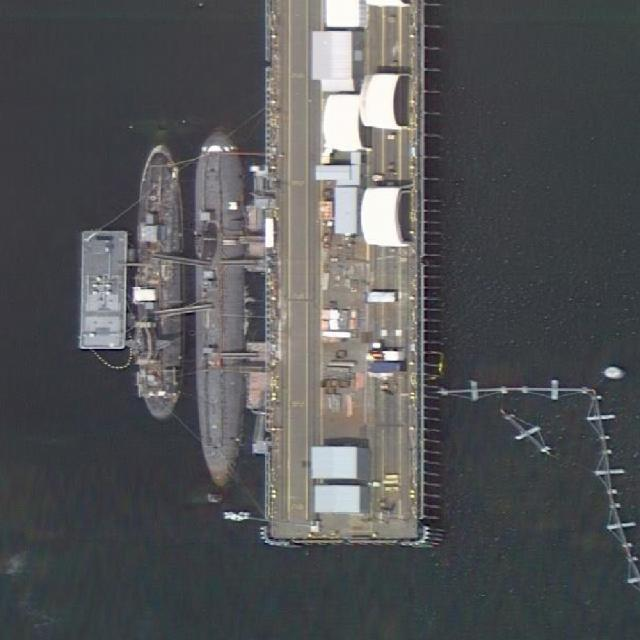Dock: (265, 6, 443, 546)
Submarine: (192, 129, 247, 492), (136, 136, 184, 431)
